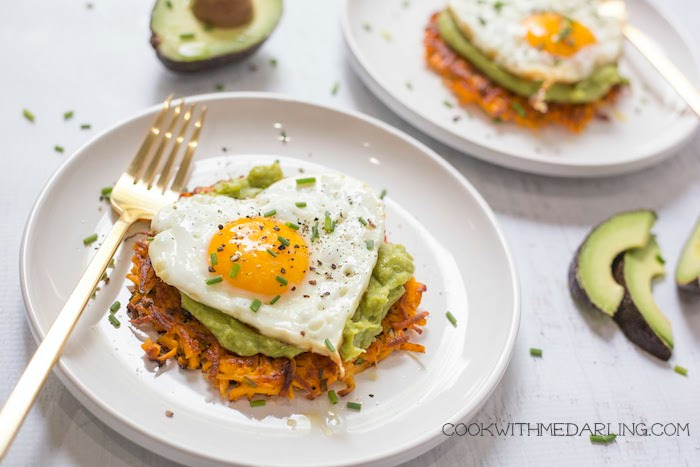fried egg: (146, 173, 404, 343)
